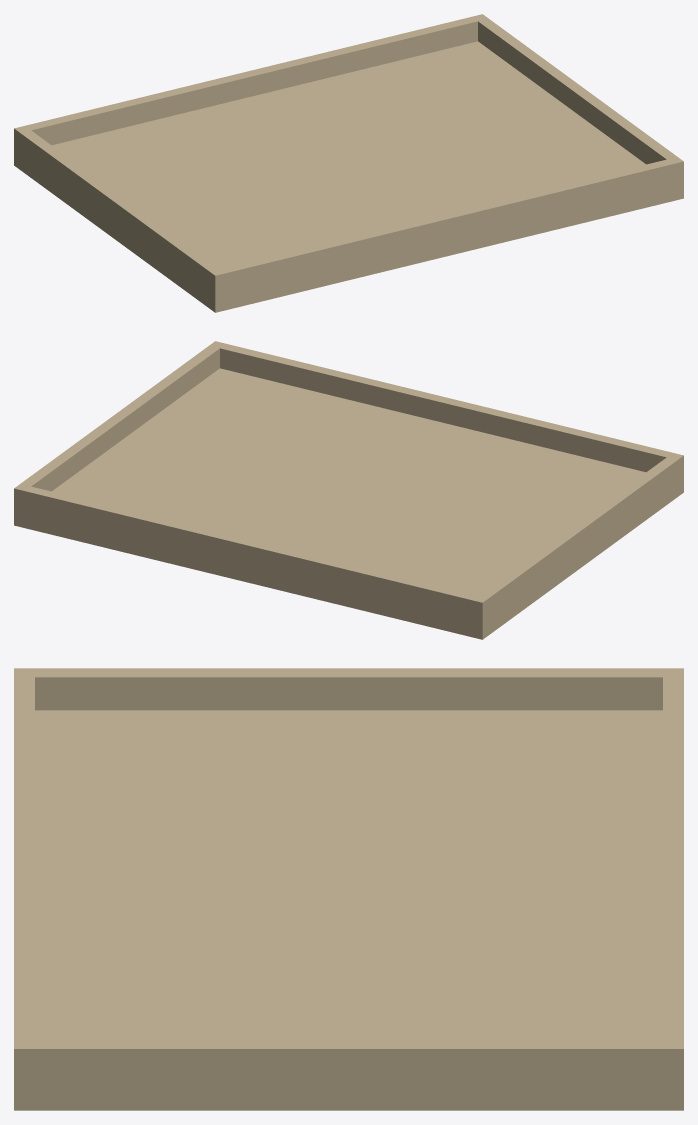
File: tray_pile_whole.glb
The picture shows the model from 3 angles, top to bottom: view 1: azimuth 30°, elevation 25°; view 2: azimuth 150°, elevation 25°; view 3: azimuth 270°, elevation 25°; orthographic projection. The views are drawn at different scales.
Visible parts, largest first — view 1: tray_pile_whole_0; view 2: tray_pile_whole_0; view 3: tray_pile_whole_0.
Boxes of the visible parts, x1=… form: tray_pile_whole_0: x1=14, y1=14, x2=683, y2=312; tray_pile_whole_0: x1=14, y1=341, x2=683, y2=639; tray_pile_whole_0: x1=14, y1=668, x2=683, y2=1110.
Size of the model in its own units: 0.86 by 0.065 by 0.64.
